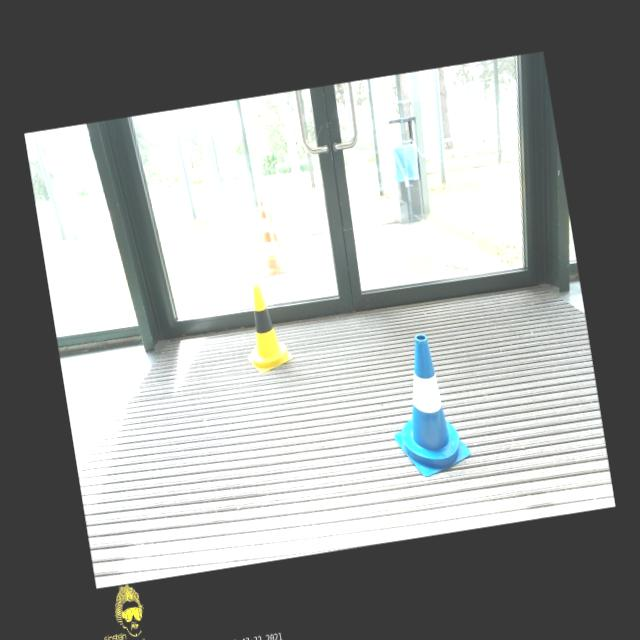blue_cone: (379, 329, 473, 480)
large_orange_cone: (250, 199, 288, 278)
orange_cone: (269, 212, 284, 246)
yellow_cone: (237, 280, 294, 375)
